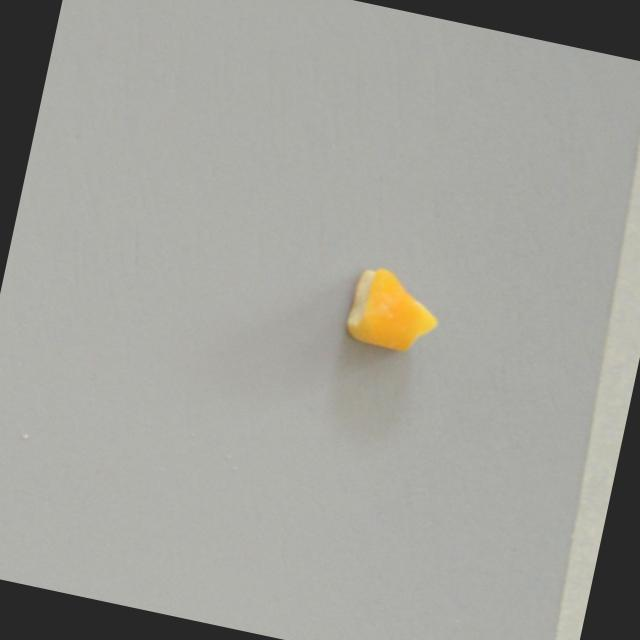no_canjicado: (341, 262, 446, 362)
